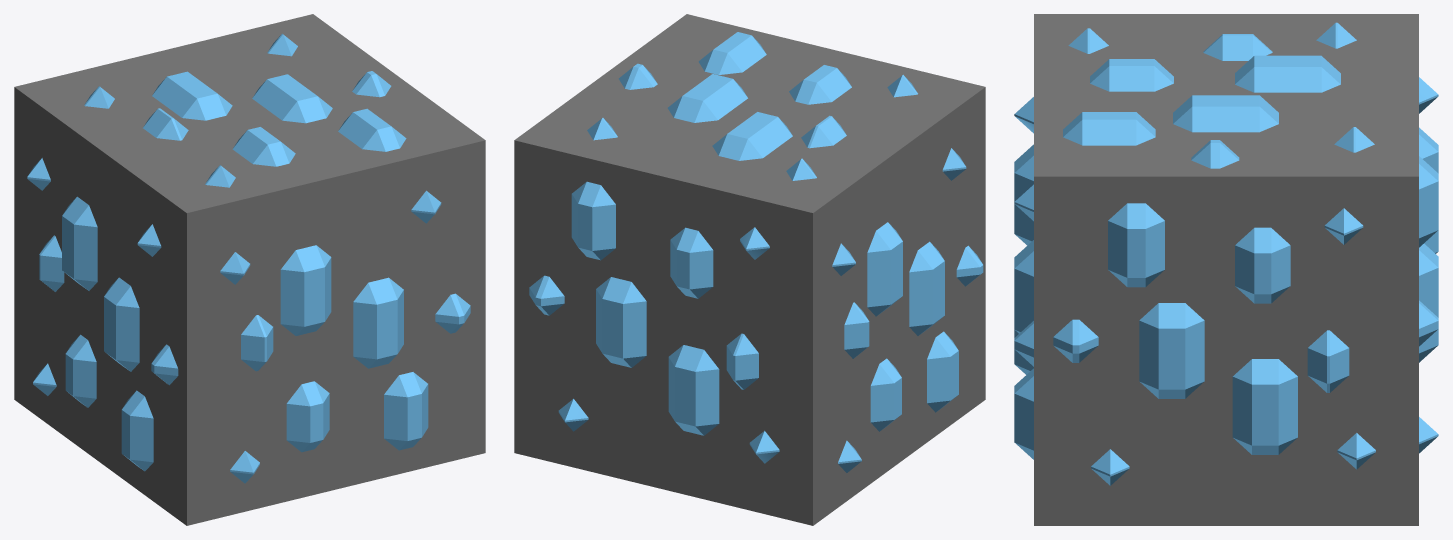
Rendered from Block_Crystal.gltf.
The picture shows the model from 3 angles, left to right: view 1: azimuth 30°, elevation 25°; view 2: azimuth 150°, elevation 25°; view 3: azimuth 270°, elevation 25°; orthographic projection. The views are drawn at different scales.
Parts seen in each view (by area): view 1: Block_Crystal; view 2: Block_Crystal; view 3: Block_Crystal.
Boxes of the visible parts, x1,y1,x2,y2 form: Block_Crystal: (14,14,485,525); Block_Crystal: (514,14,985,525); Block_Crystal: (1014,14,1438,525).
Bounding box in the file's own units: 2.2 × 2.2 × 2.2.
Materials: 1 (1 with a texture image).
